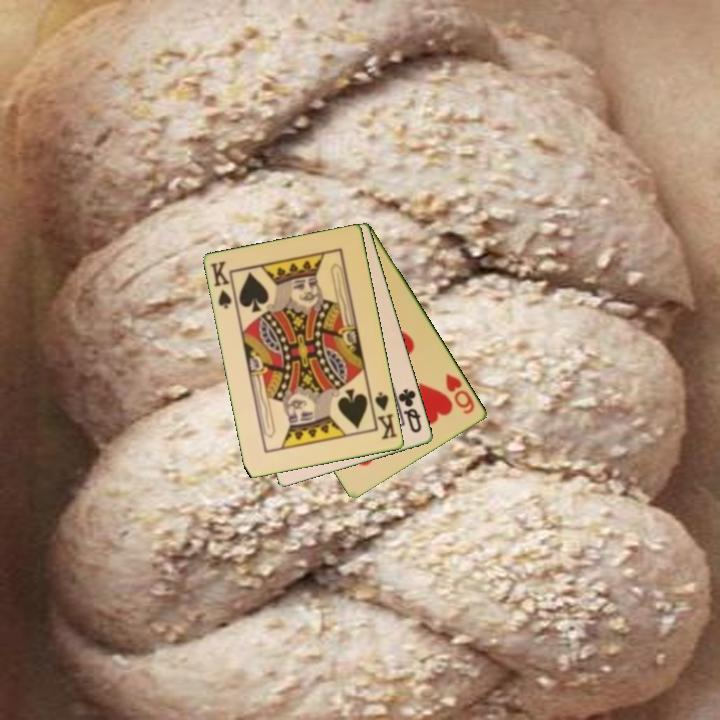6h: (442, 370, 478, 417)
Ks: (367, 389, 400, 442), (207, 258, 239, 312)
Qc: (395, 385, 425, 436)
